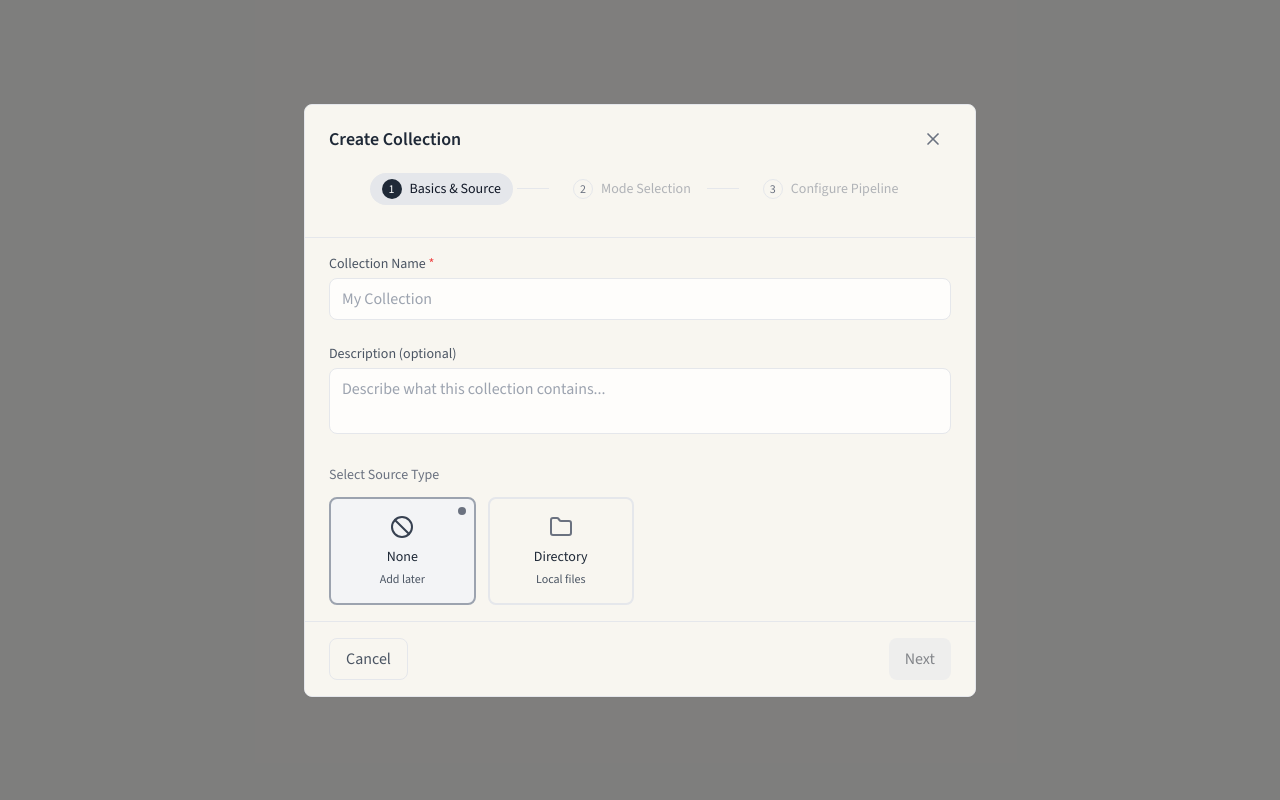
Test: CollectionWizard Manual Flow Integration › completes manual flow: basics -> mode -> configure -> create
The width and height of the screenshot is (1280, 800).
// Fill basics
Type "Test Collection" into the field labelled "Collection Name *" at (640, 298), box [329, 278, 951, 320]
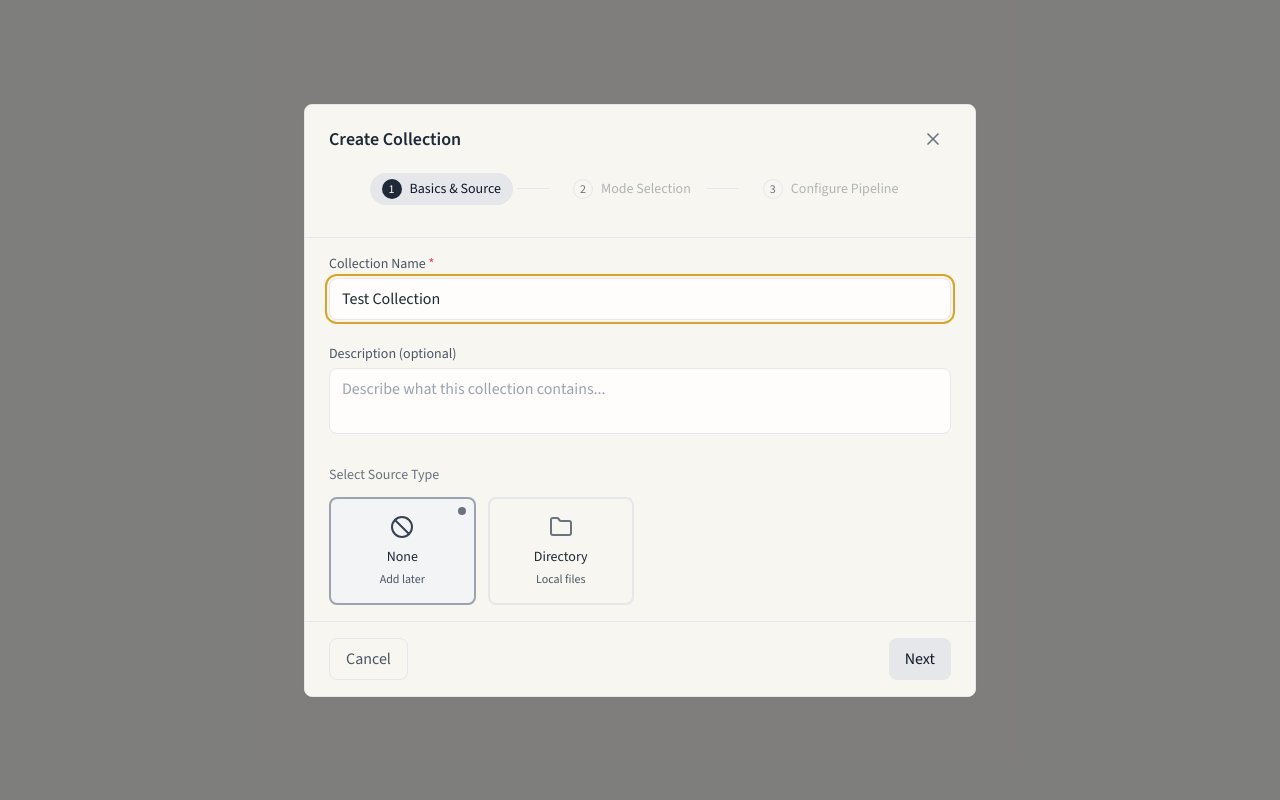
// Click Next
Click the button "Next" at (920, 658), box [889, 638, 951, 680]
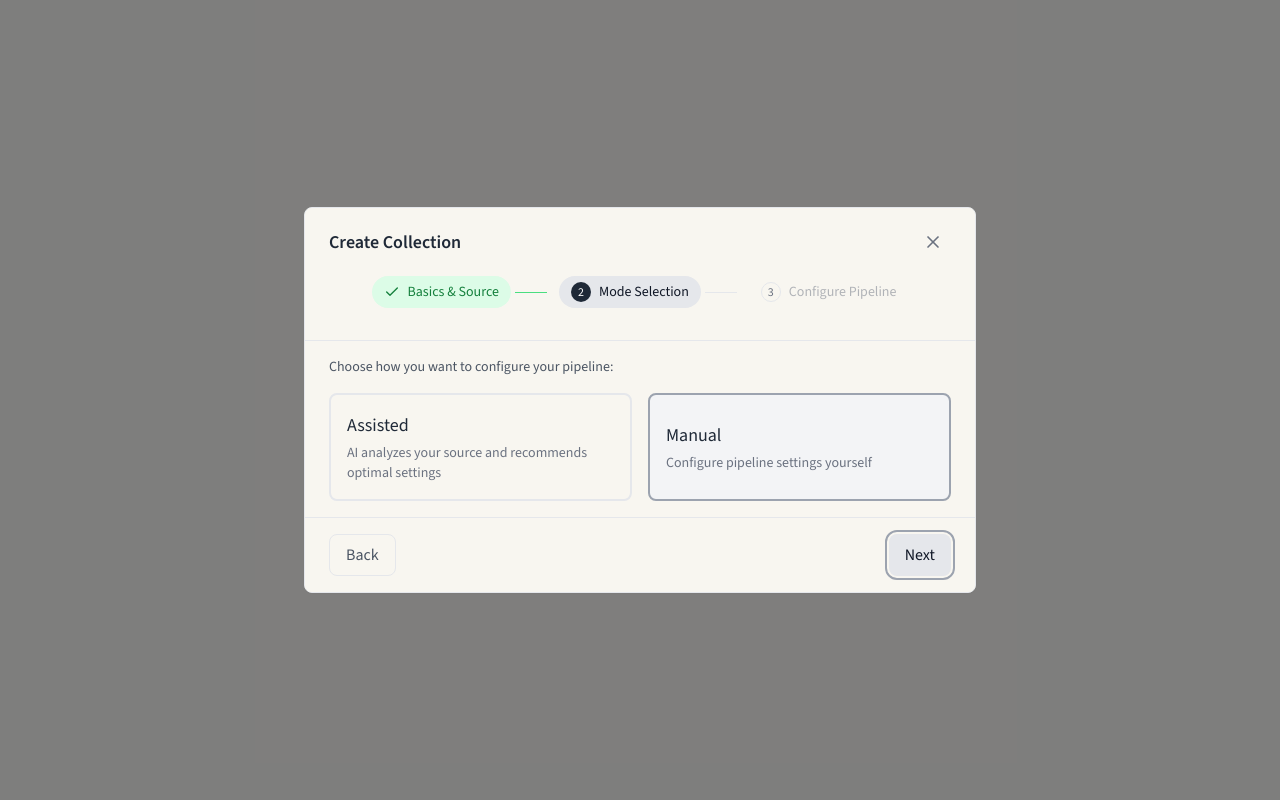
Check: the text "Manual" is shown, box [666, 423, 722, 447]
// Click Next to go to step 3
Click the button "Next" at (920, 555), box [889, 534, 951, 576]
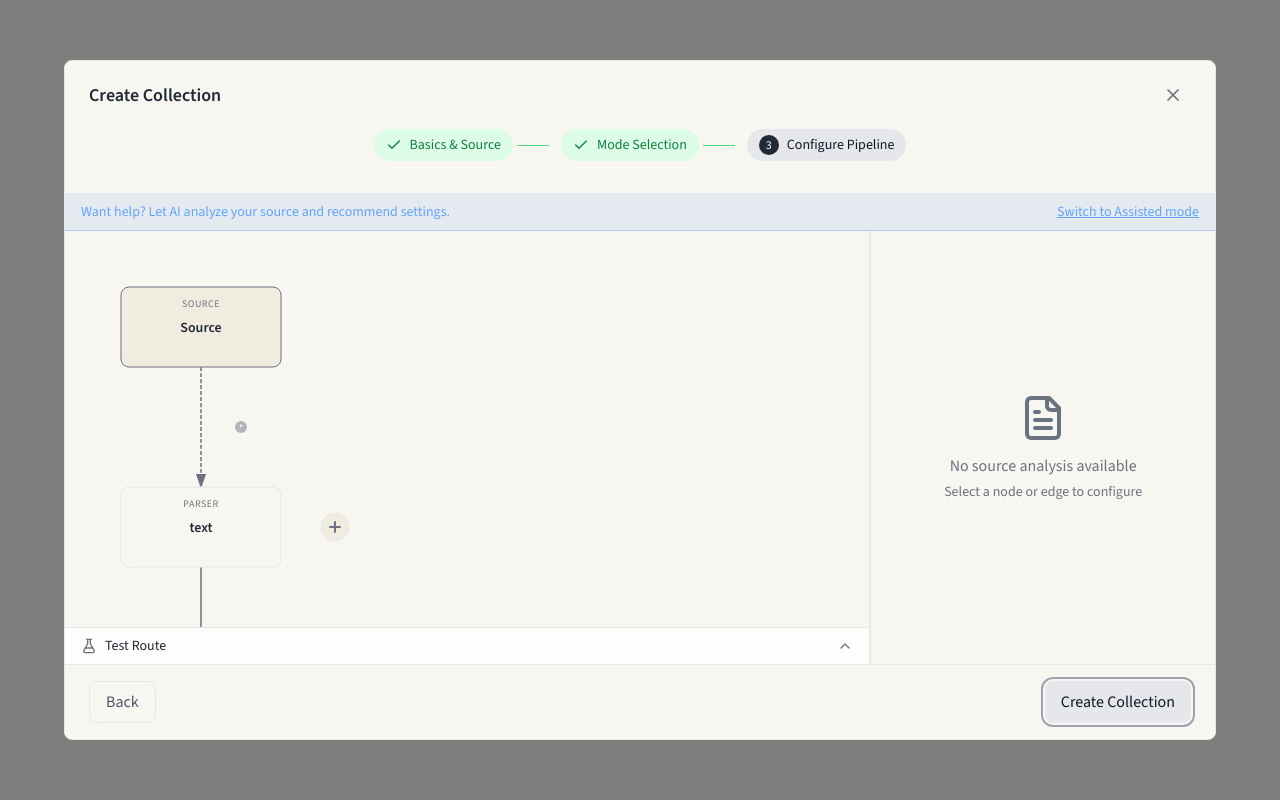
Check: the button "Create Collection" is shown, box [1045, 681, 1191, 723]
